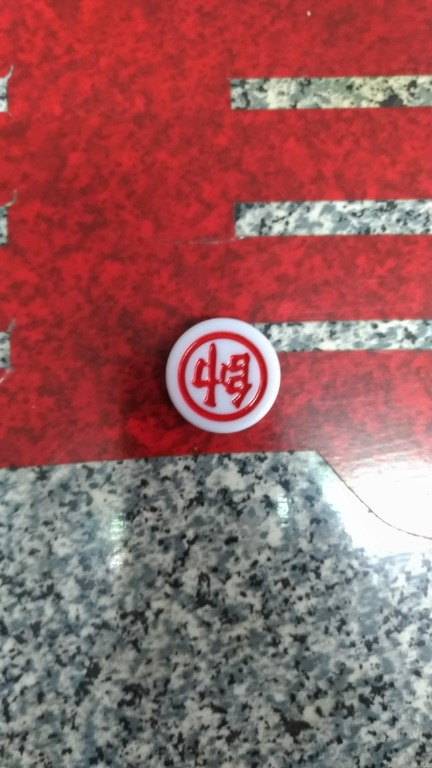r-king: (158, 314, 292, 437)
